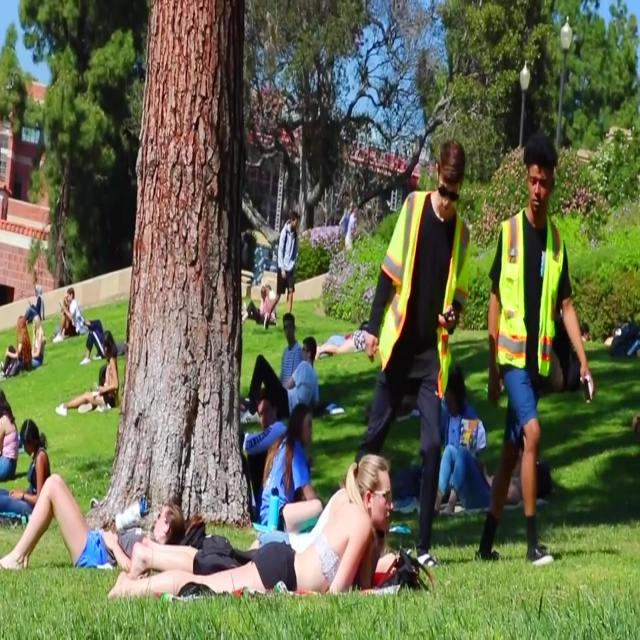Reflective-Jacket: (382, 188, 472, 372), (495, 209, 569, 389)
